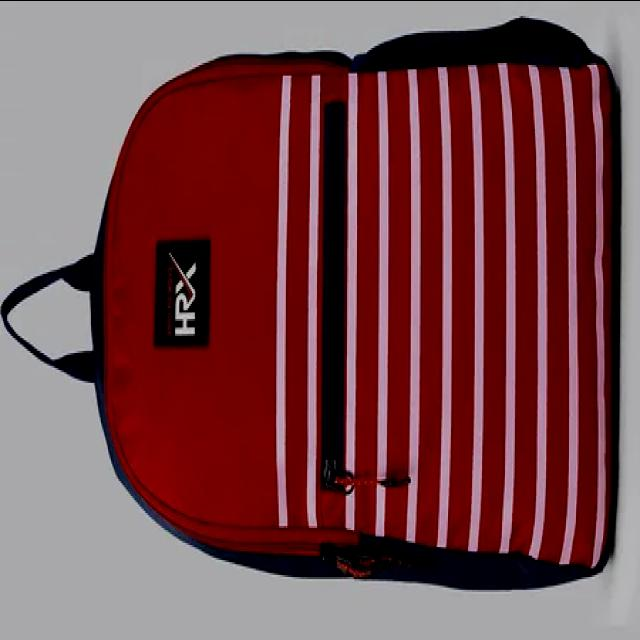backpack: (1, 18, 621, 592)
